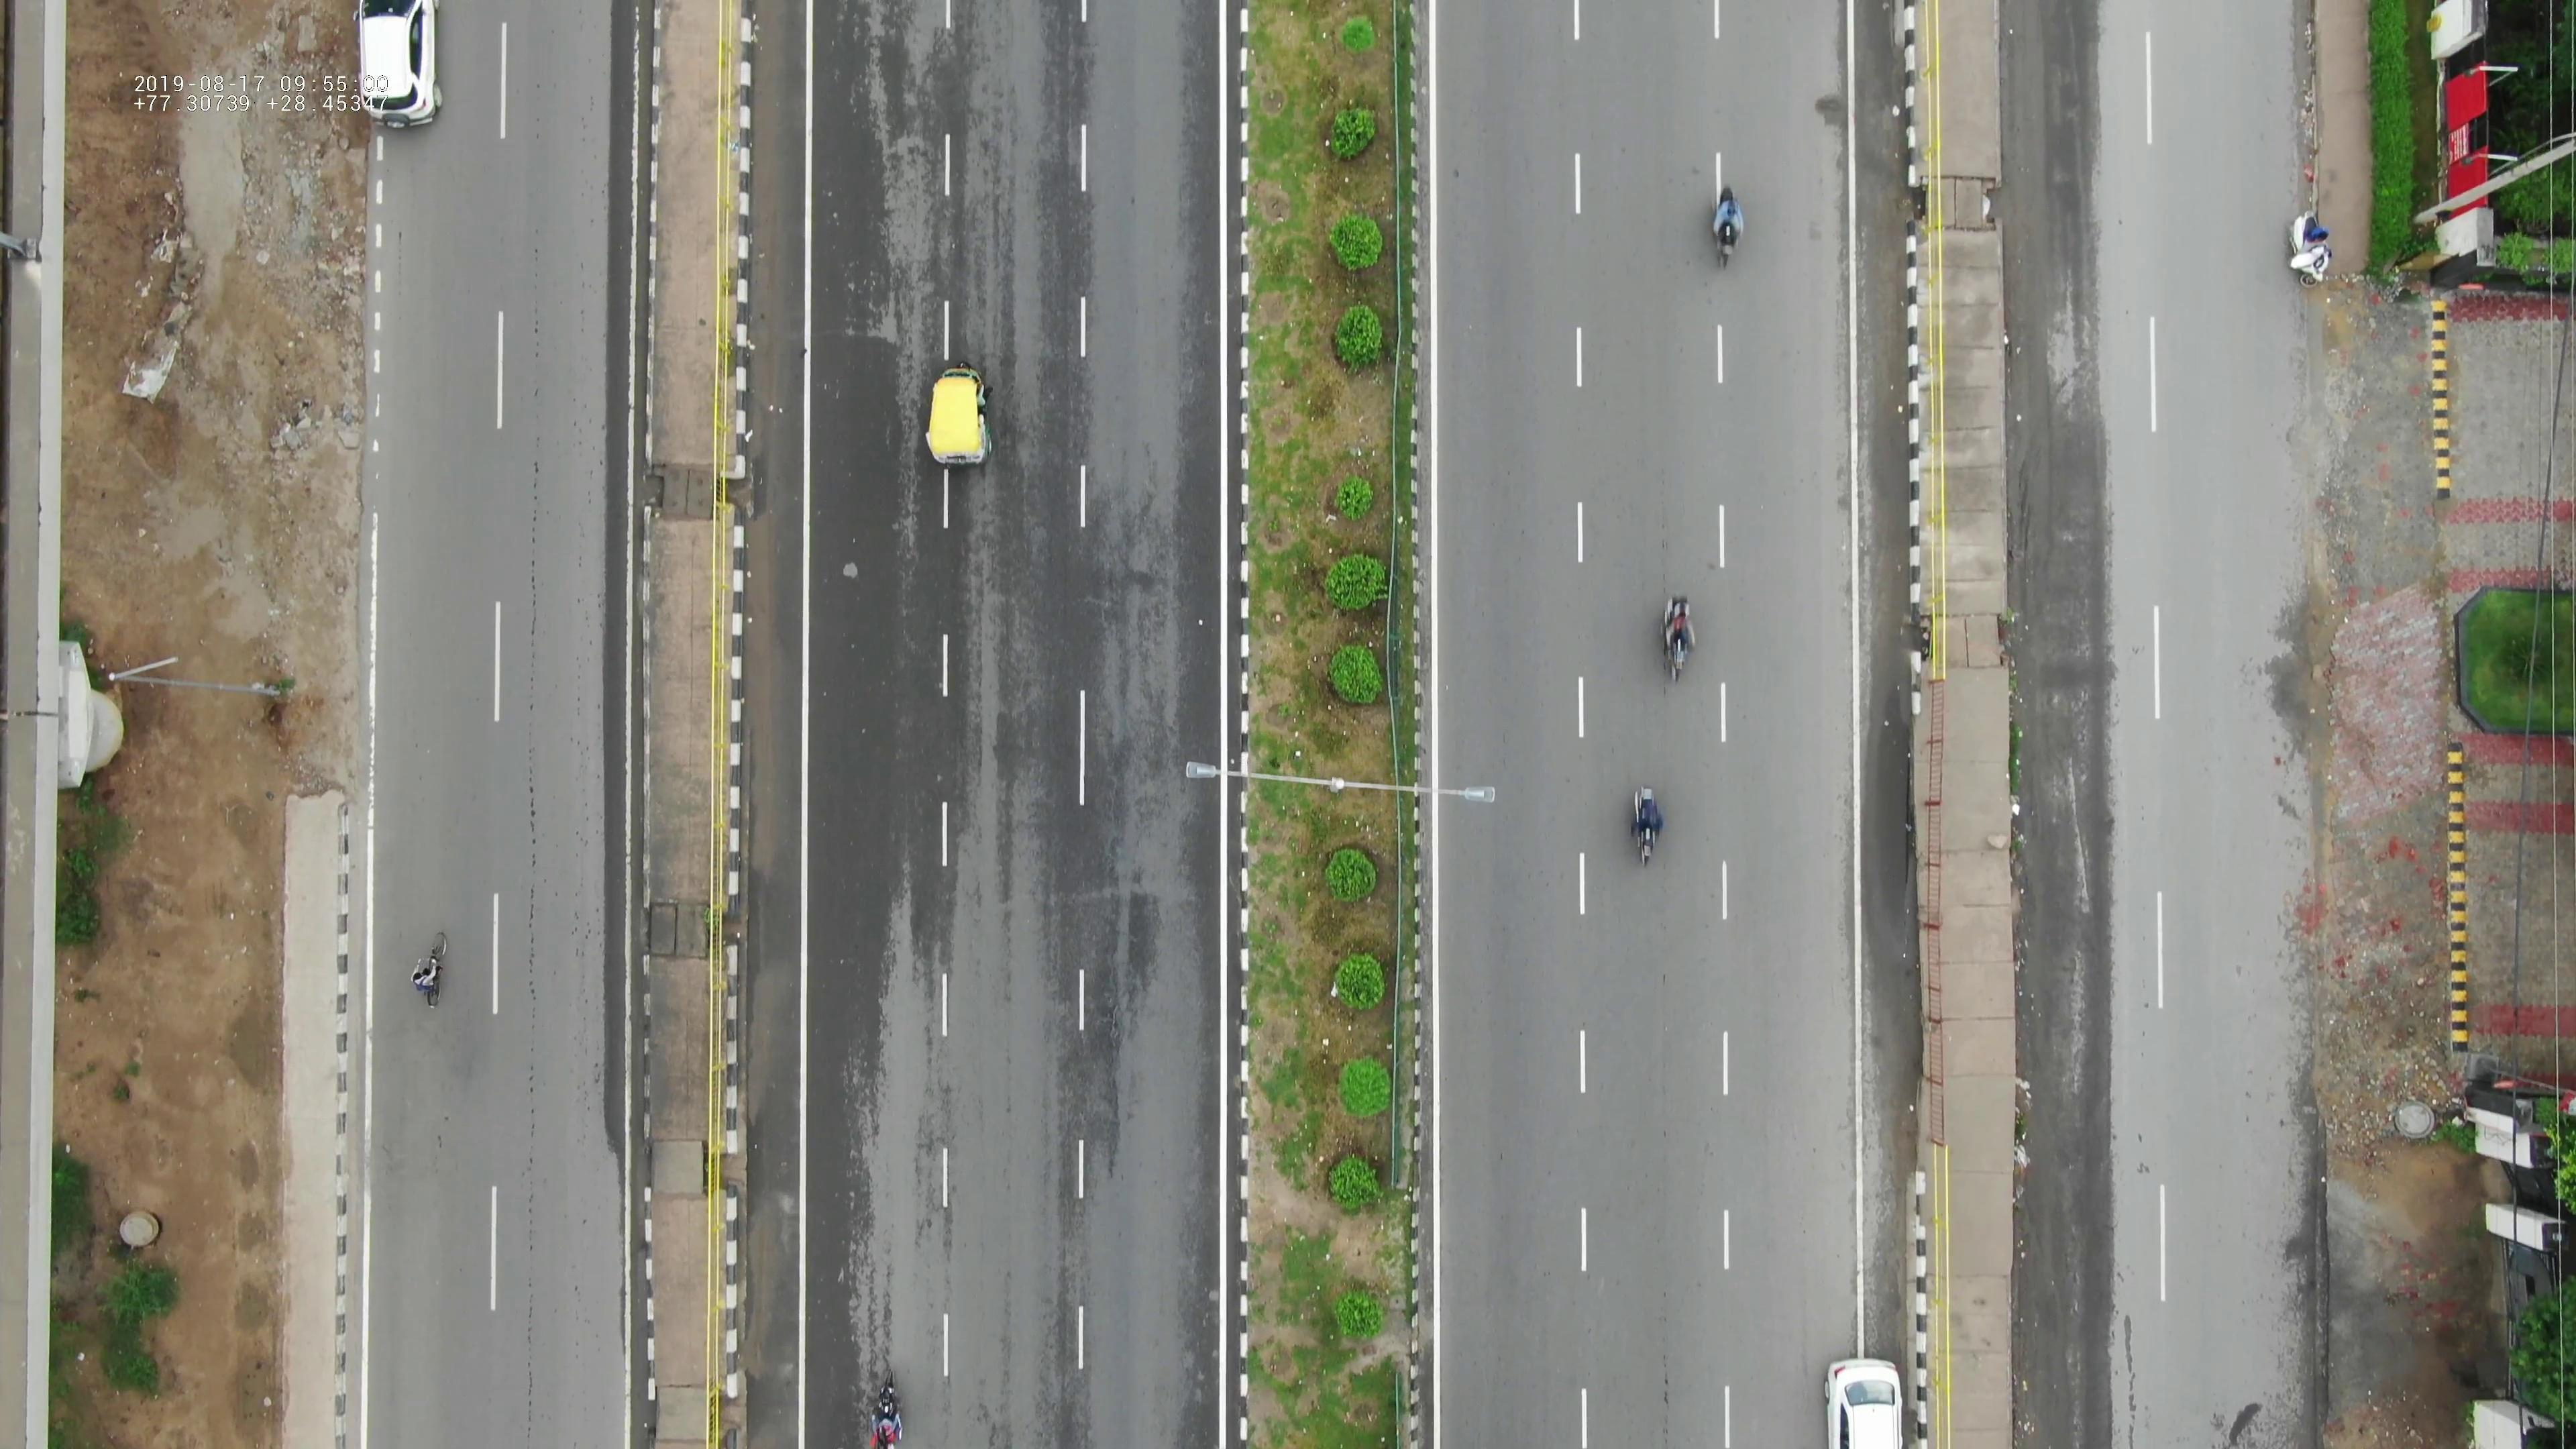Muddy_road: (2279, 600, 2332, 777)
